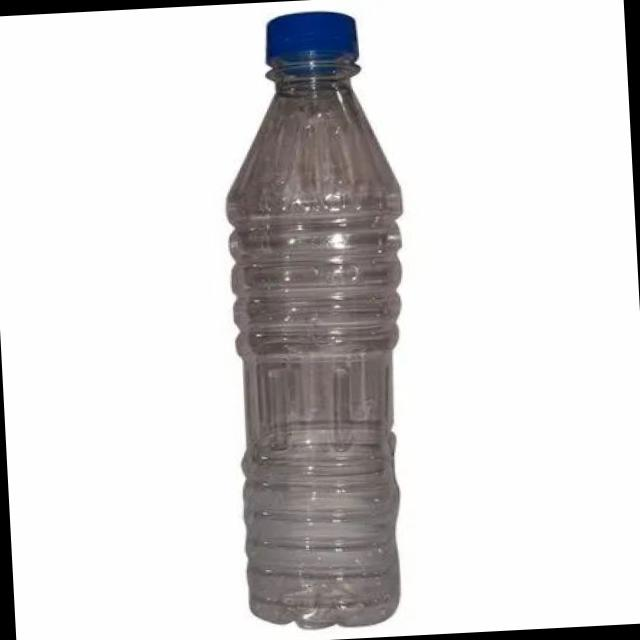plastic_bottle: (196, 5, 437, 624)
